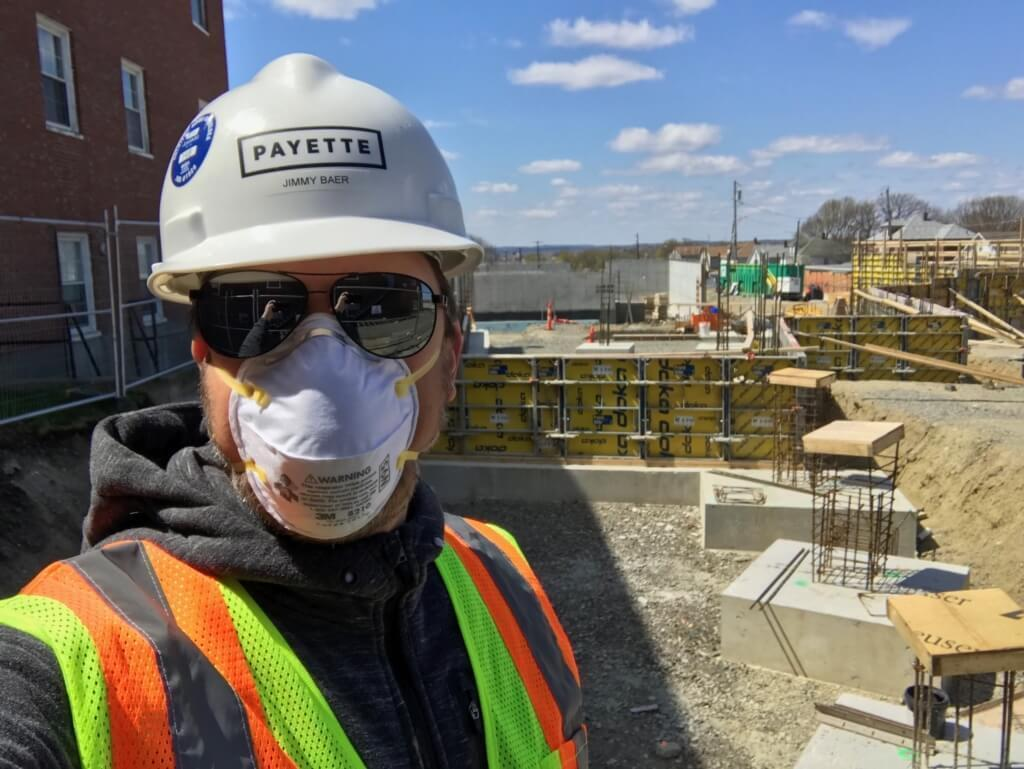helmet: (145, 49, 483, 288)
